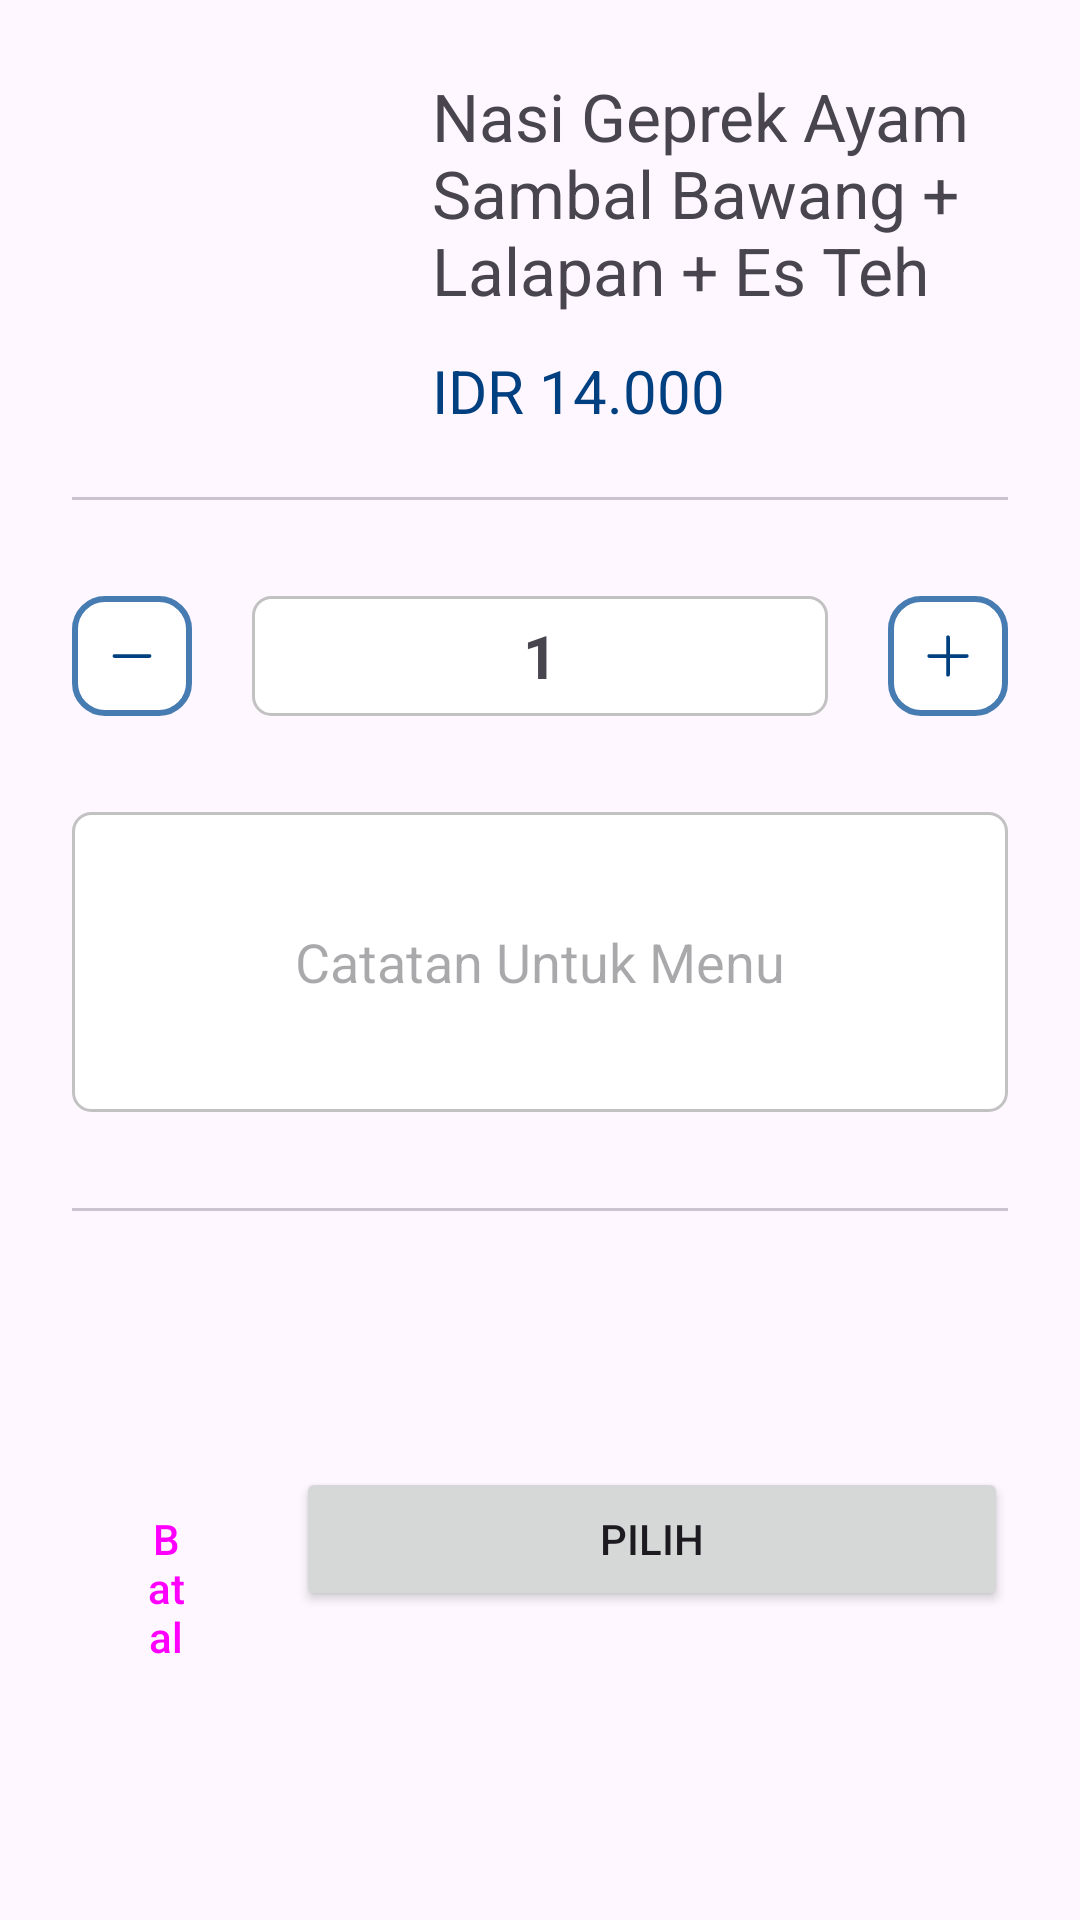

Point at icon controls on the screen. Image size 1080 x 1920, points as point (x, y).
minus: point (132, 656)
plus: point (948, 656)
